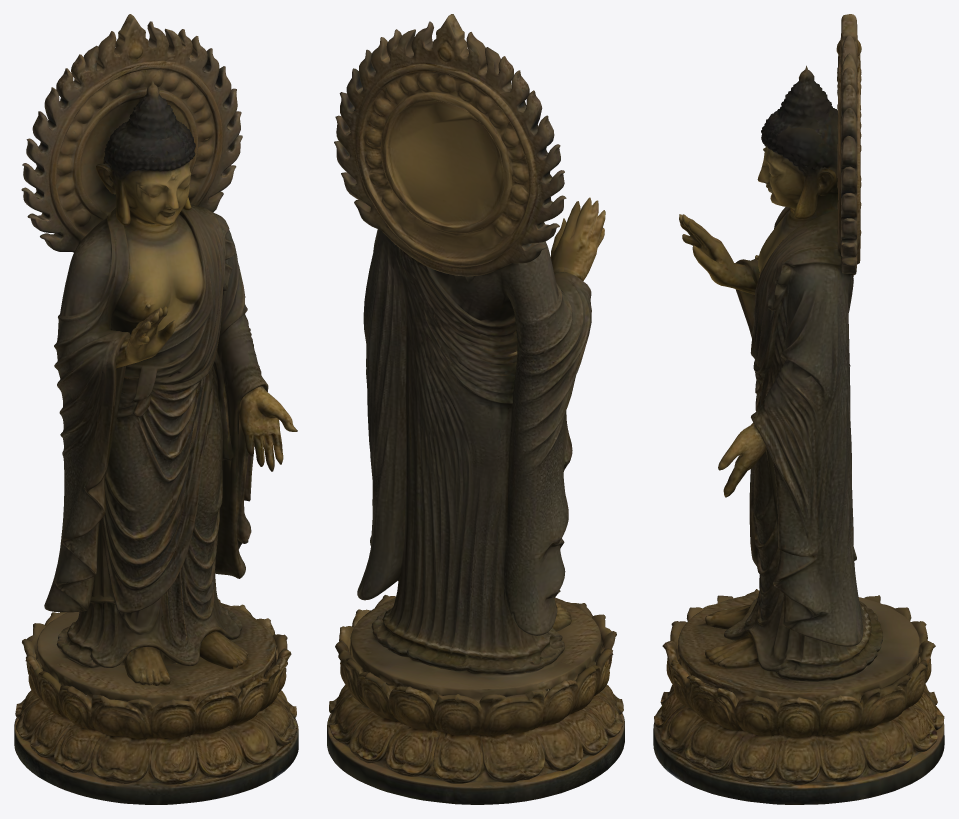
The model's file is 释迦牟尼_模型_1024.glb.
The picture shows the model from 3 angles, left to right: view 1: azimuth 30°, elevation 25°; view 2: azimuth 150°, elevation 25°; view 3: azimuth 270°, elevation 25°; orthographic projection. The views are drawn at different scales.
Visible parts, largest first — view 1: node_0; view 2: node_0; view 3: node_0.
Part boxes in pixels (bbox=[...]): node_0: bbox=[14, 14, 298, 804]; node_0: bbox=[327, 14, 624, 804]; node_0: bbox=[653, 14, 944, 804].
Size of the model in its own units: 0.405 by 1.13 by 0.4074.
Materials: 1 (1 with a texture image).
